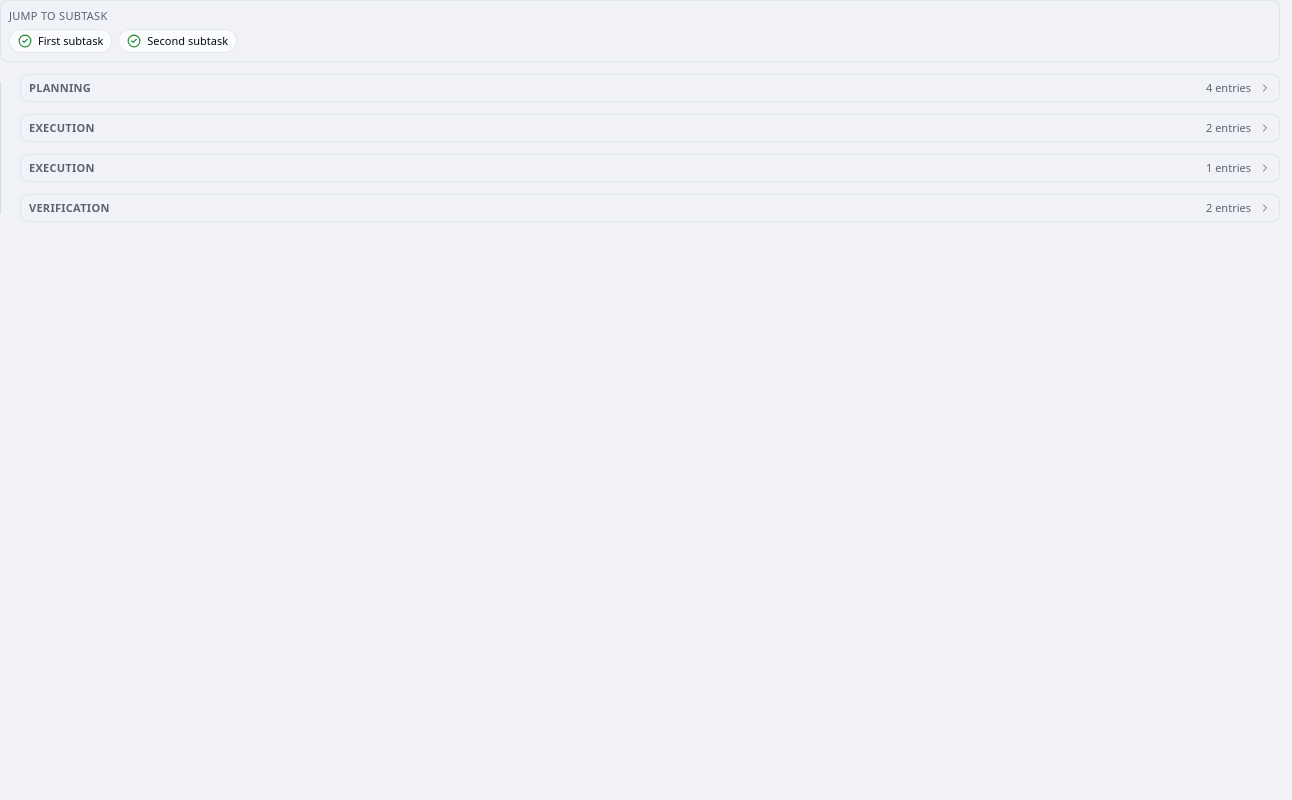
Test case: SessionGraphView phase grouping › collapses a completed subtask's detail by default and expands it on click
This screenshot has width=1292, height=800.
Expected: the text "tool call output content" is not shown
Click the 1st text "Execution". click: [62, 128]
box: [29, 120, 95, 135]
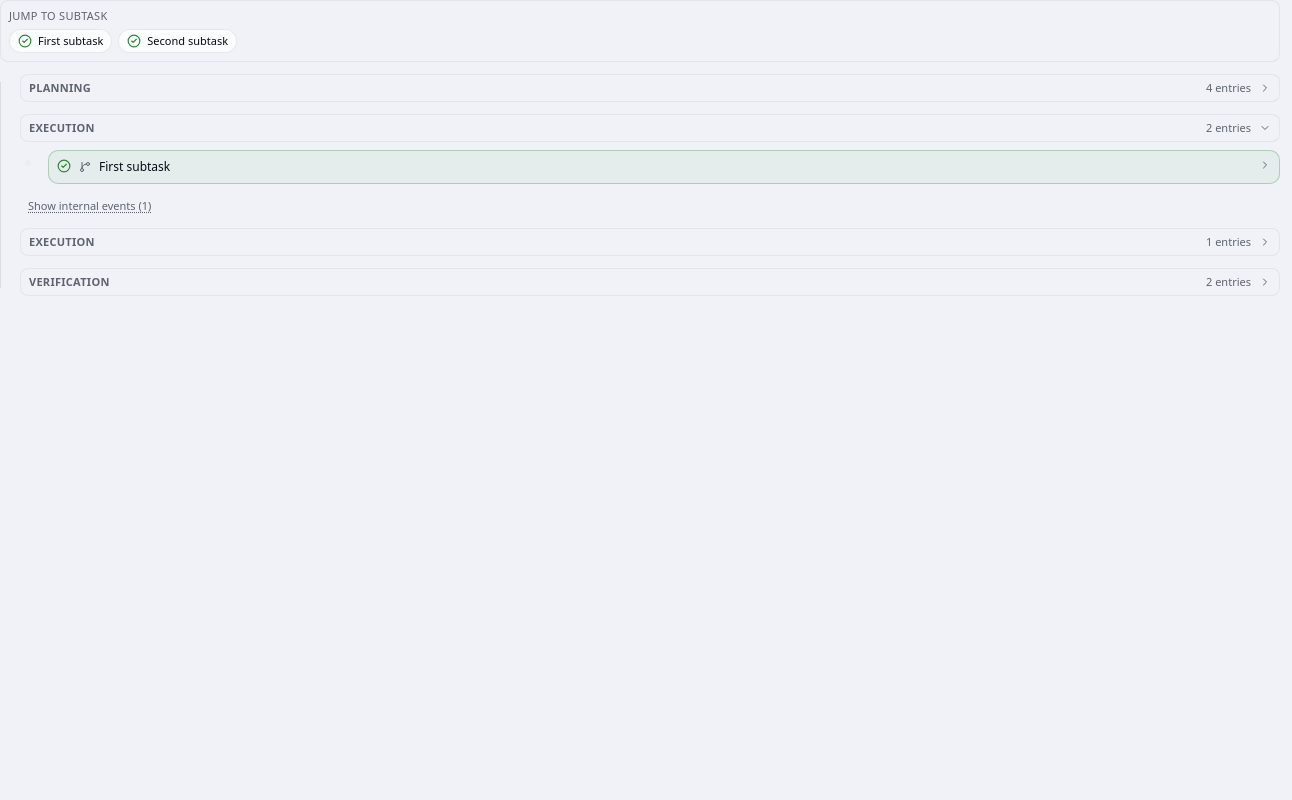
Click the 2nd button "First subtask". click: [135, 166]
box: [49, 151, 1279, 183]
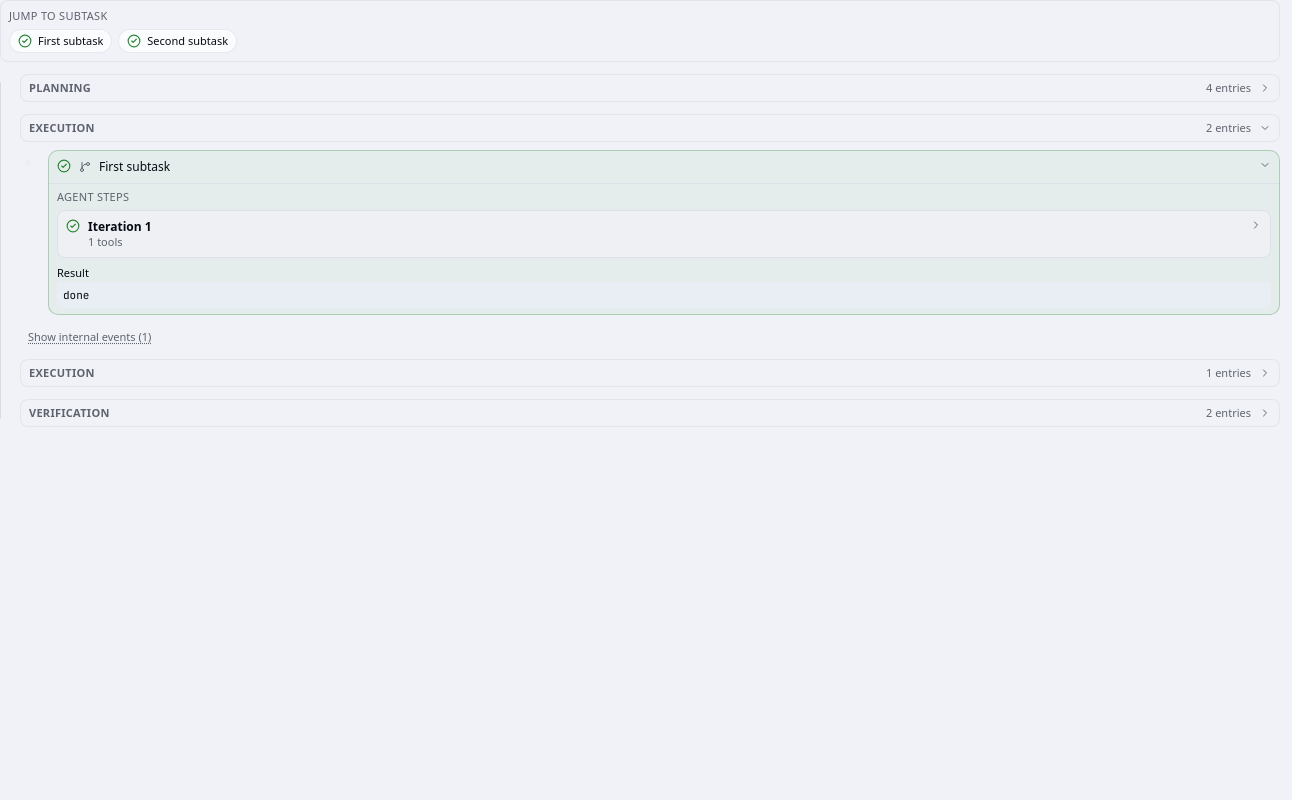
Click the text "Iteration 1". click: [120, 226]
box: [88, 218, 152, 235]
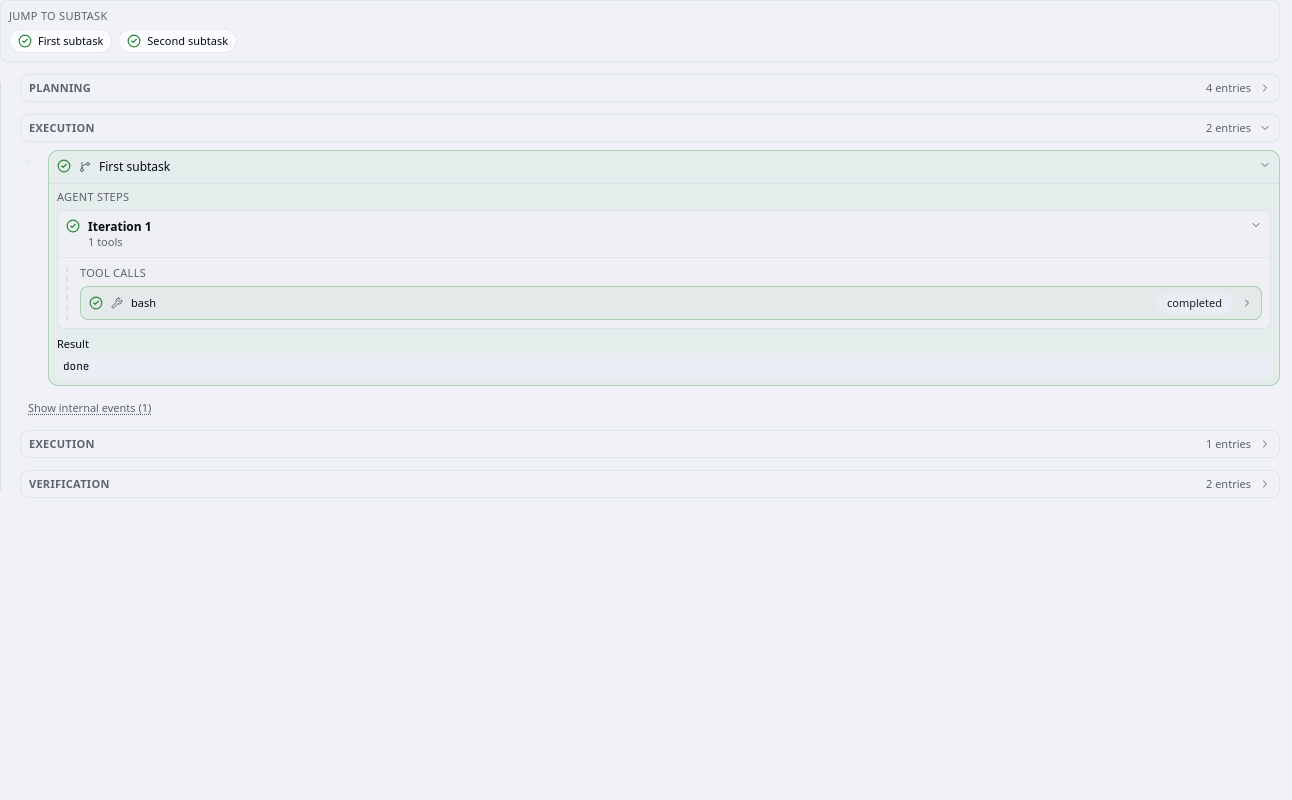
Click the text "bash". click: [144, 302]
box: [131, 295, 156, 310]
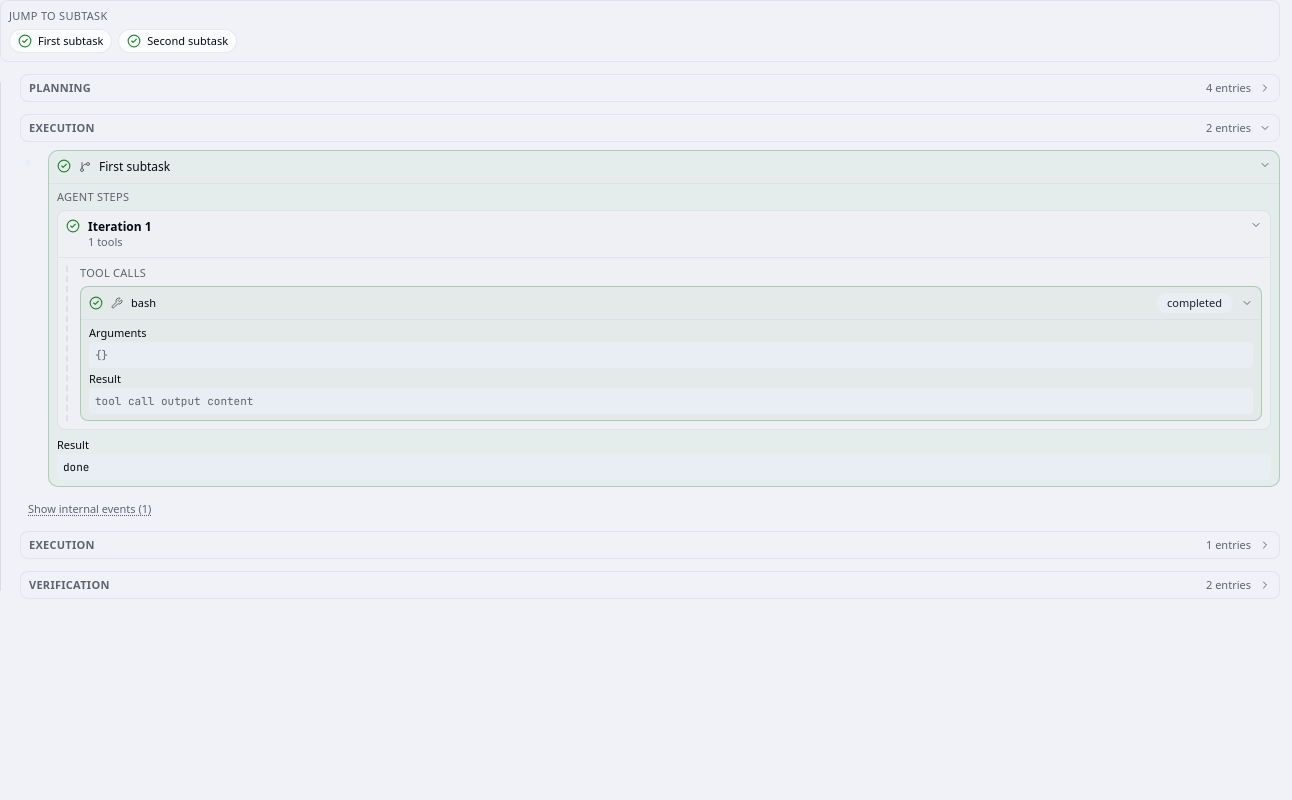
Now the text "tool call output content" is shown, box [89, 388, 1253, 414]
